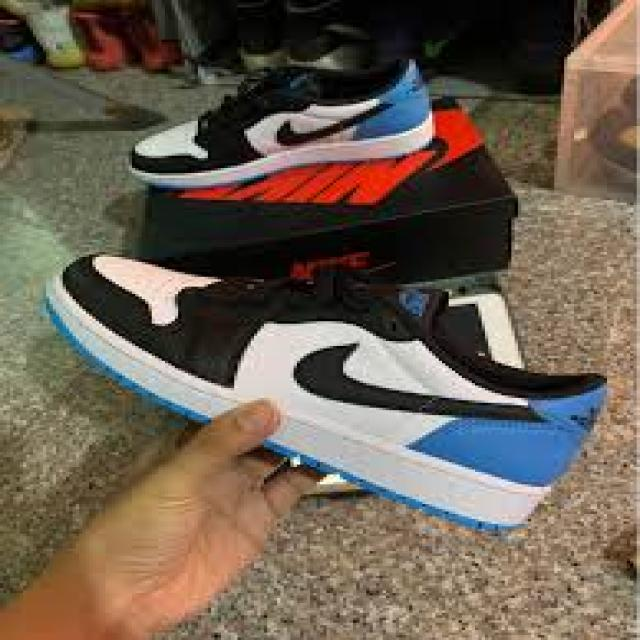shoes: (44, 252, 611, 538), (119, 54, 438, 196)
